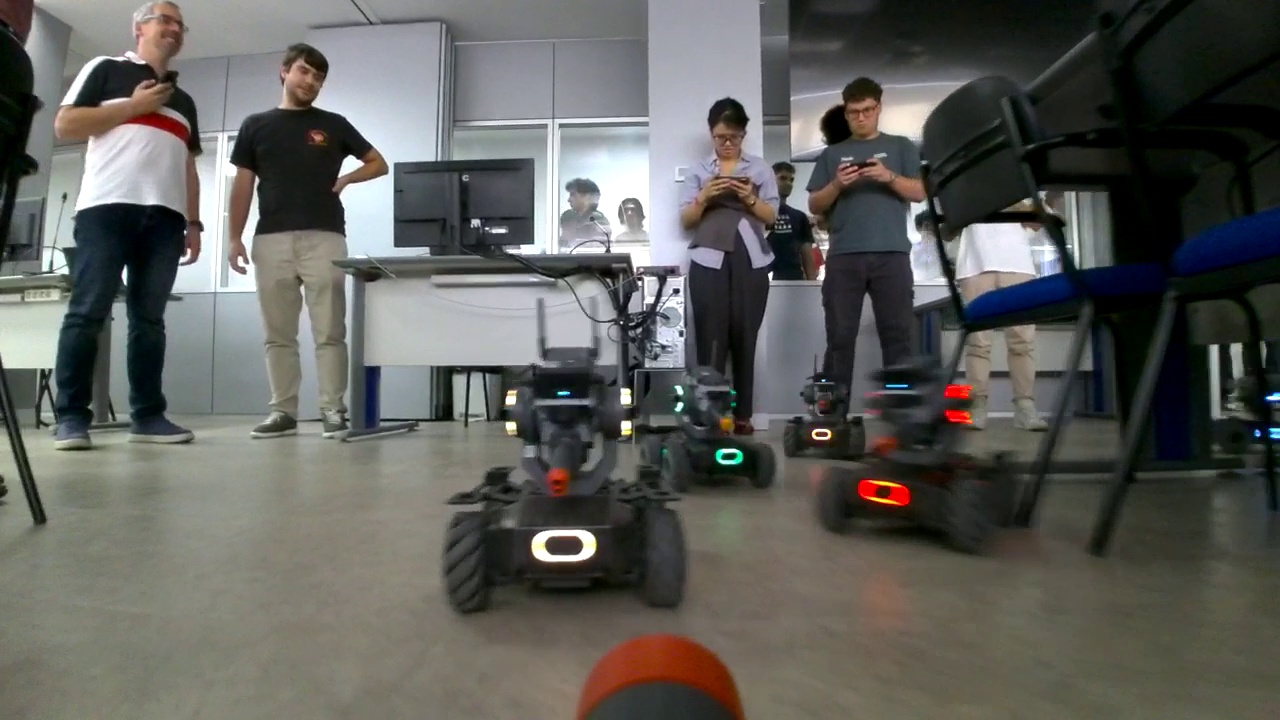robot: (442, 297, 683, 610), (817, 344, 1012, 551), (641, 342, 776, 490), (783, 351, 863, 458), (1215, 359, 1280, 457)
